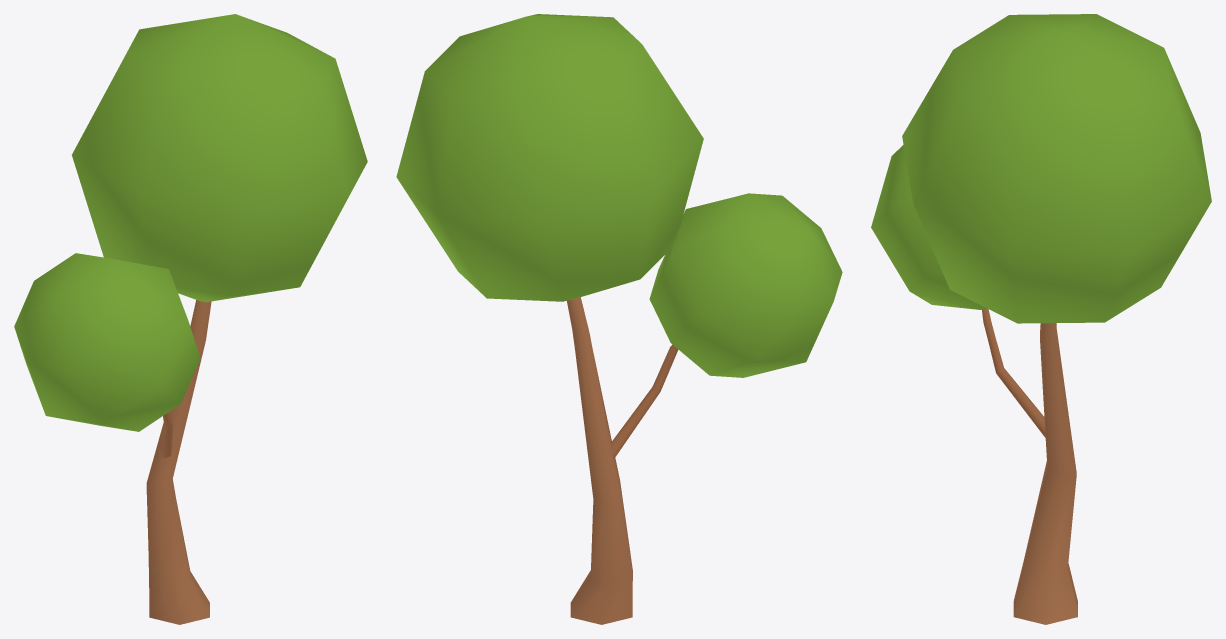
File: Tree2.glb
The picture shows the model from 3 angles, left to right: view 1: azimuth 30°, elevation 25°; view 2: azimuth 150°, elevation 25°; view 3: azimuth 270°, elevation 25°; orthographic projection. The views are drawn at different scales.
Parts seen in each view (by area): view 1: tree_2; view 2: tree_2; view 3: tree_2.
Part boxes in pixels (left/top/right/bottom): tree_2: left=14, top=14, right=367, bottom=624; tree_2: left=396, top=14, right=842, bottom=624; tree_2: left=871, top=14, right=1211, bottom=624.
Size of the model in its own units: 1.5 by 2.29 by 1.16.
1 material, 1 textured.
